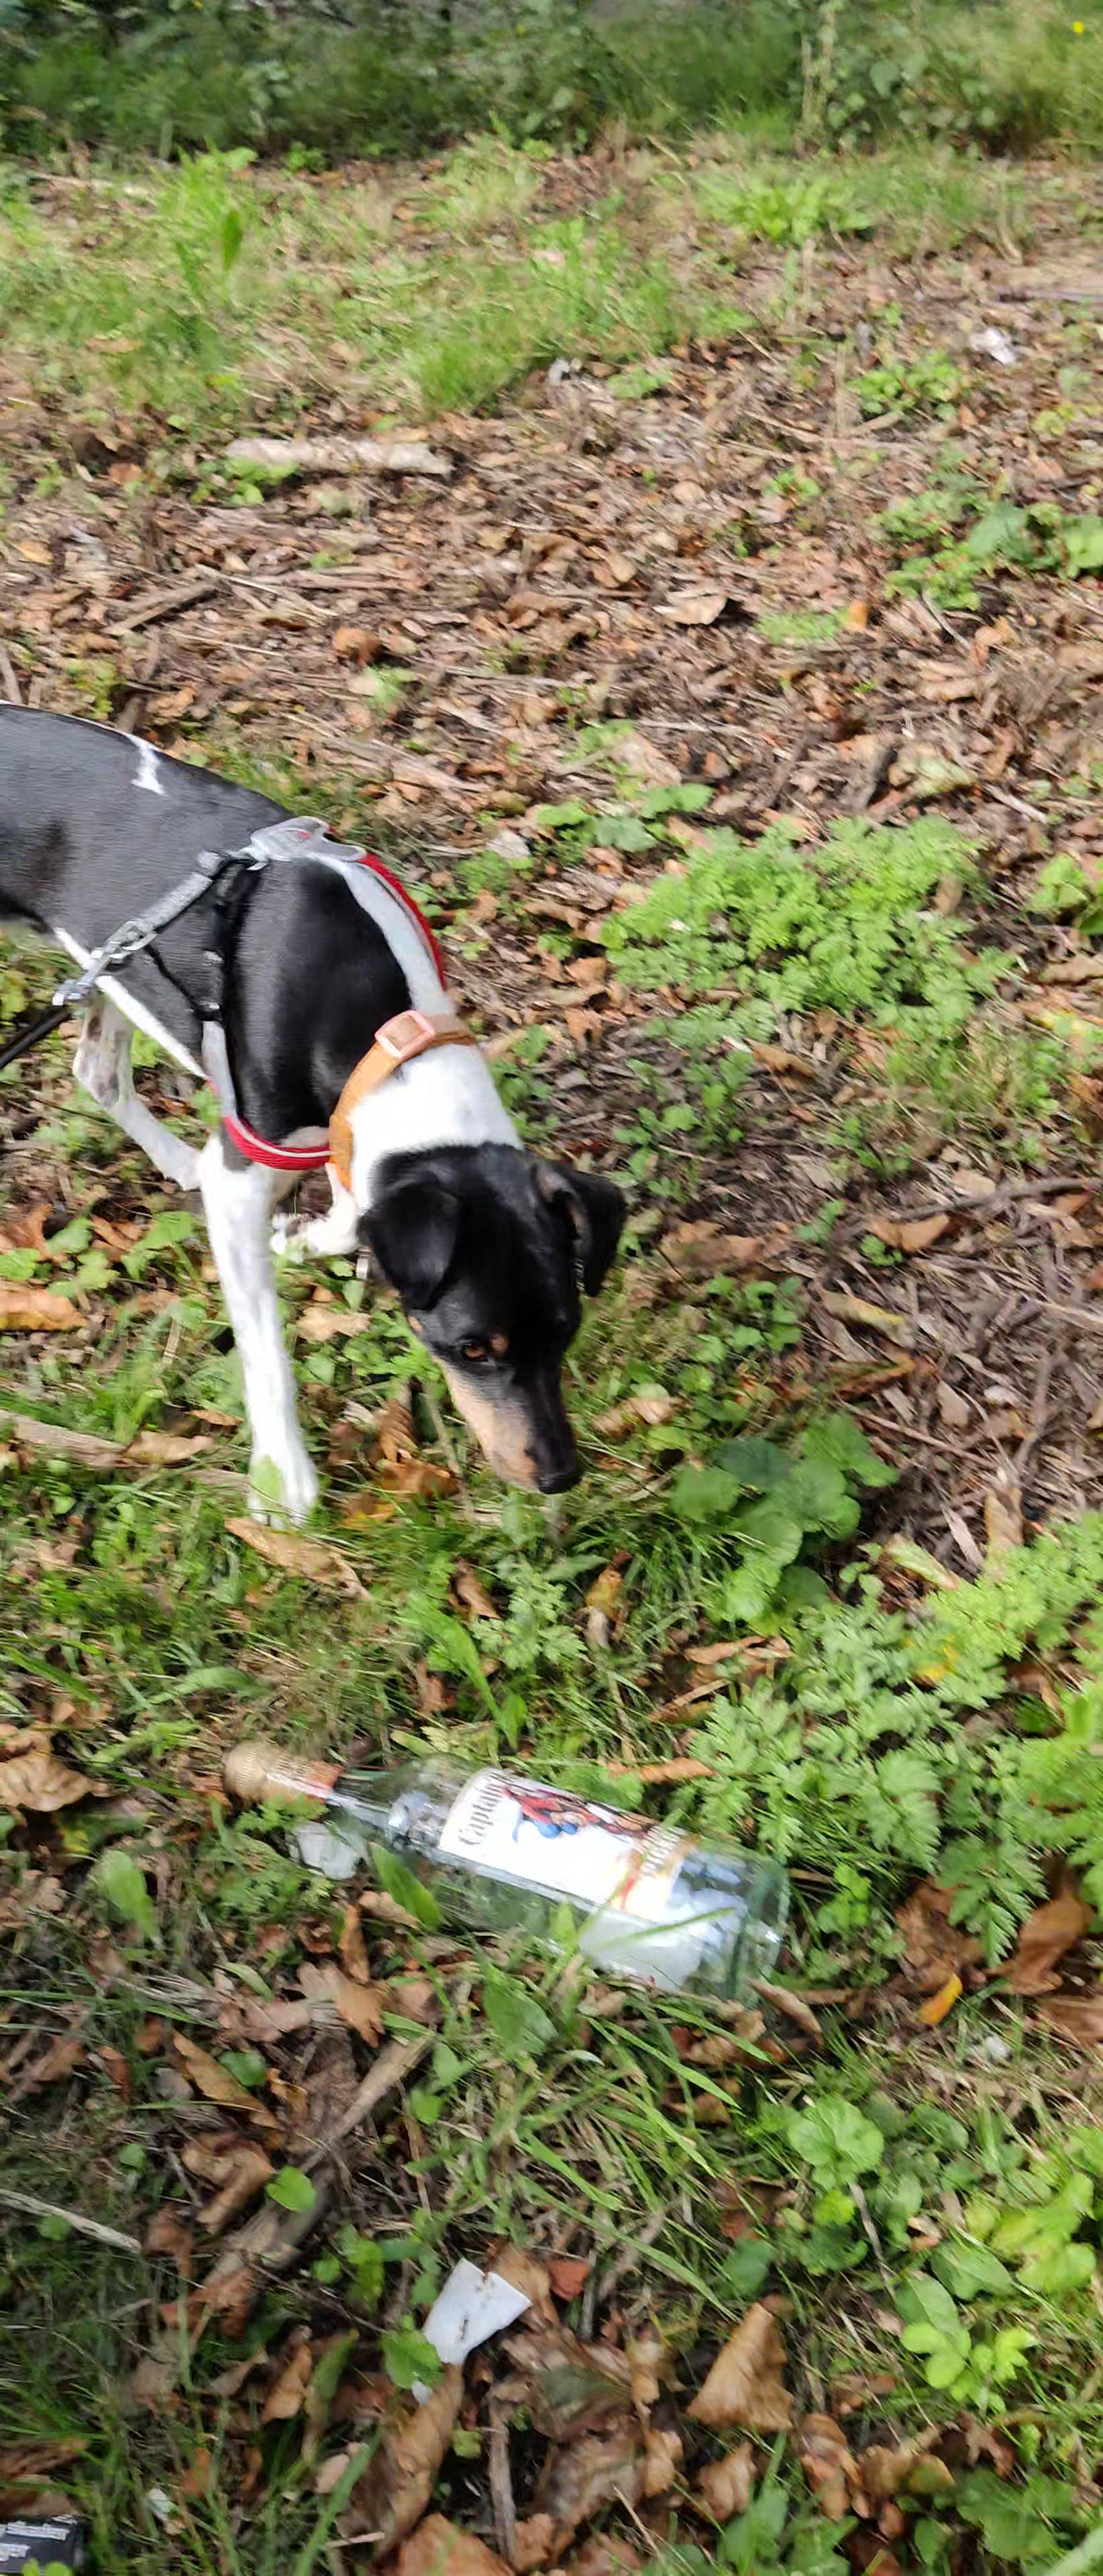Dog: (0, 692, 656, 1536)
